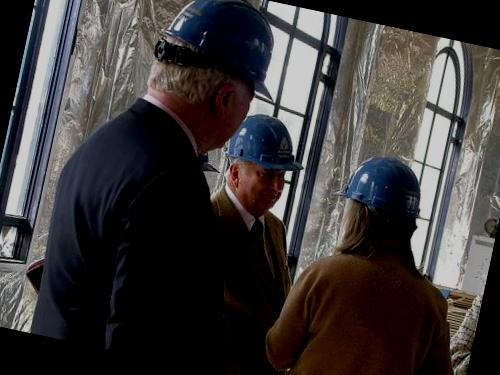person: (6, 0, 296, 371), (261, 140, 499, 375), (153, 102, 334, 375)
